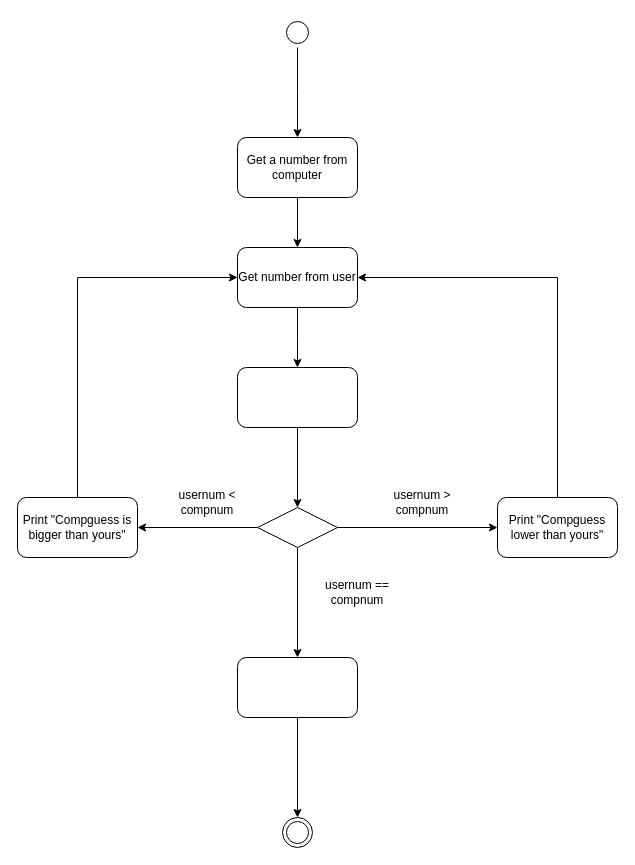
Some shapes in this 635 by 865 pixel diagram are drawn without their labels. The shapes that lost their labels are listed below. From the top down, each one's centre as x and y in pixels, then its label:
[297,397]: Eval number from user
[297,687]: Print "Guess was correct!"
